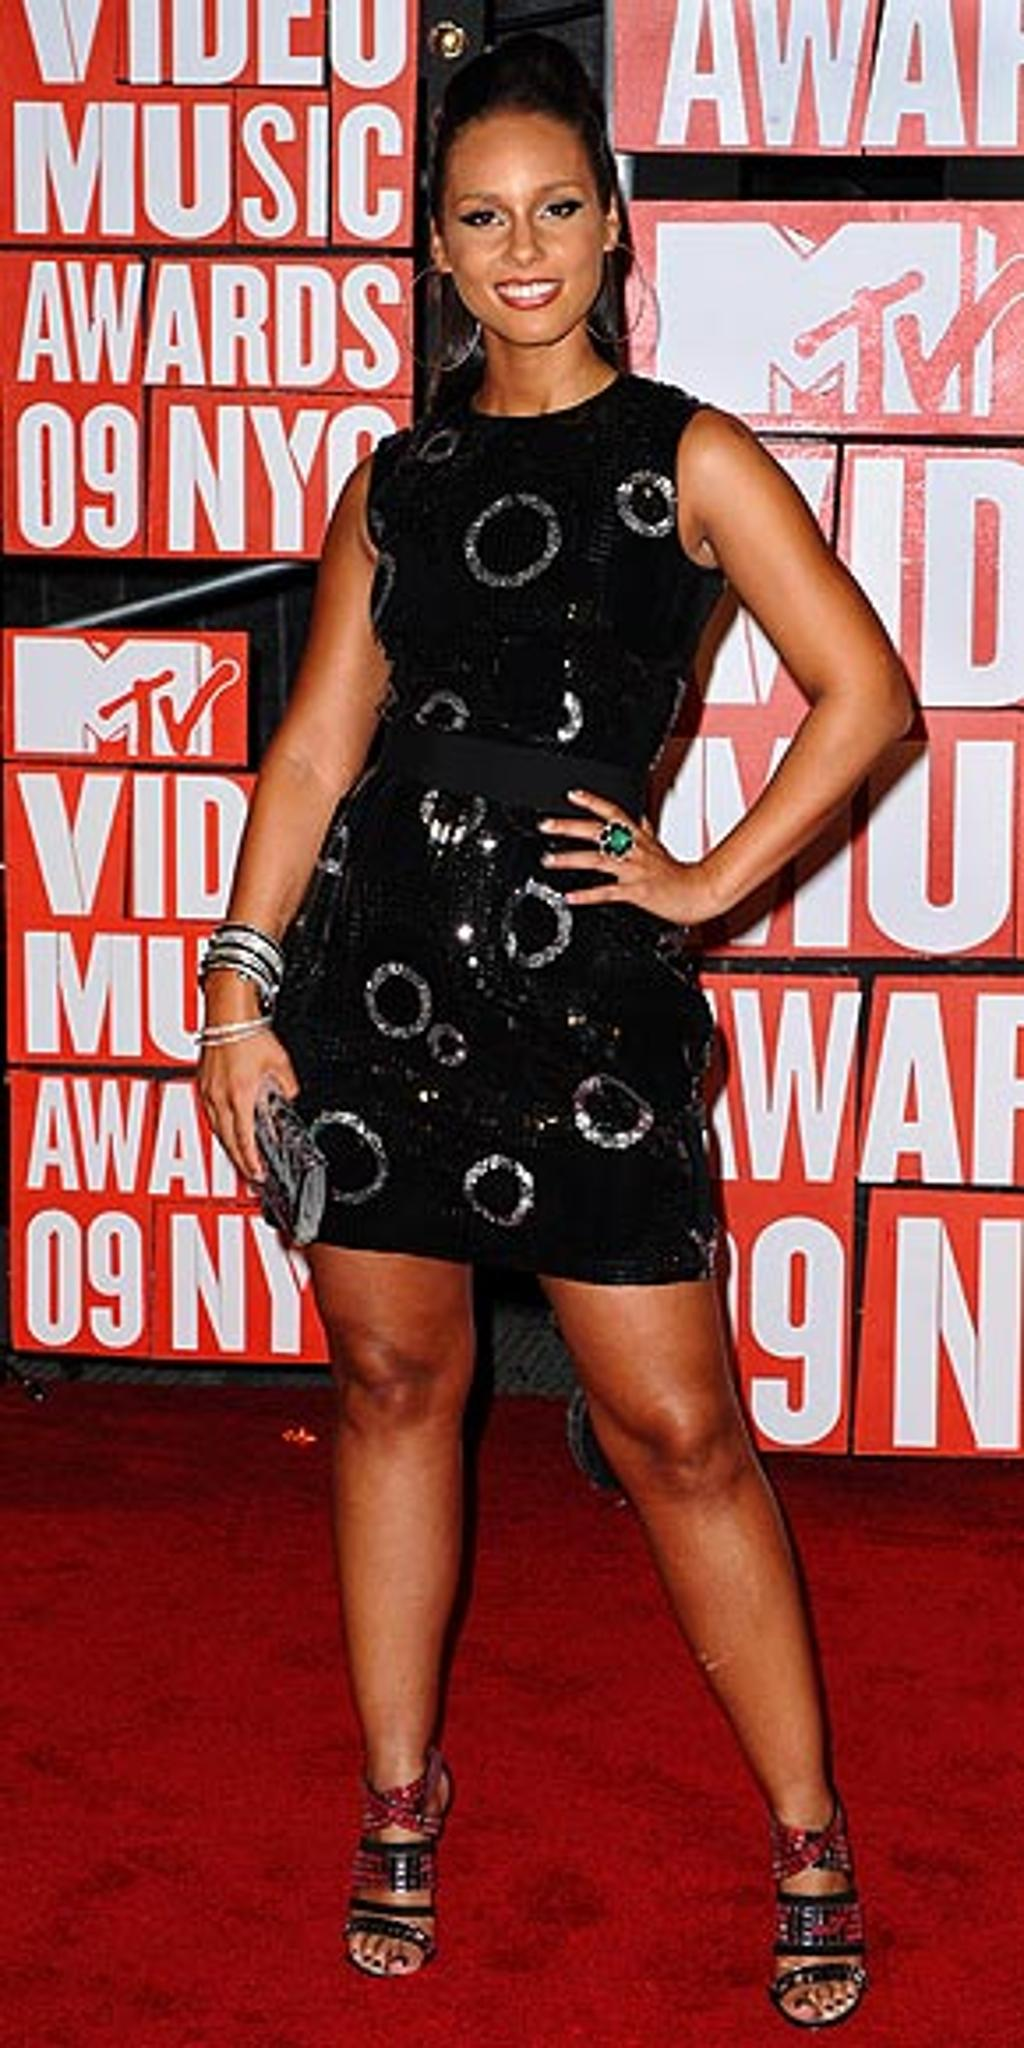face: (441, 113, 609, 349)
